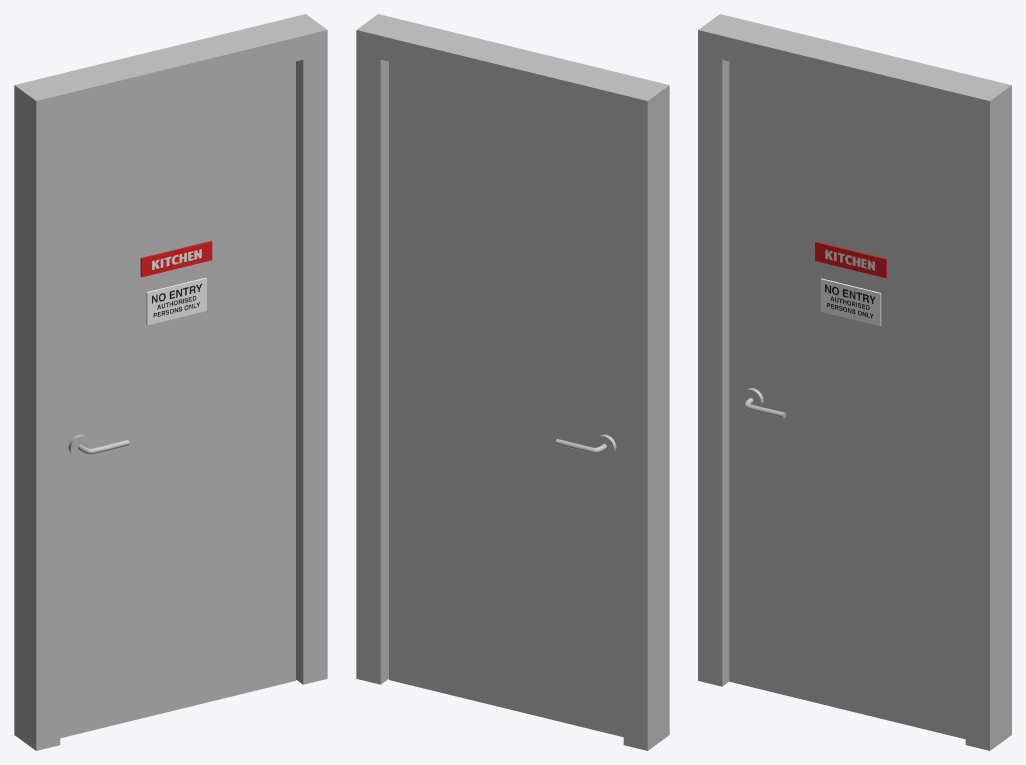
Rendered from Door 2.FBX.
3 renders of one model, left to right at view 1: azimuth 30°, elevation 25°; view 2: azimuth 150°, elevation 25°; view 3: azimuth 330°, elevation 25°, orthographic.
Parts seen in each view (by area): view 1: Door 2, door frame 2; view 2: Door 2, door frame 2; view 3: Door 2, door frame 2.
Part boxes in pixels (left/top/right/bottom): Door 2: left=60, top=61, right=295, bottom=738; door frame 2: left=14, top=14, right=327, bottom=750; Door 2: left=389, top=62, right=623, bottom=737; door frame 2: left=356, top=14, right=669, bottom=750; Door 2: left=729, top=61, right=965, bottom=739; door frame 2: left=698, top=14, right=1011, bottom=750.
Size of the model in its own units: 97.8 by 208 by 17.04.
